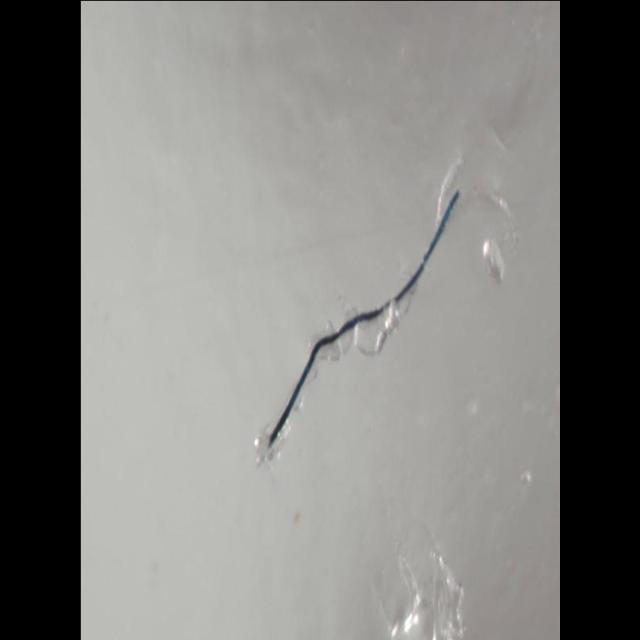Fibre: (258, 173, 466, 472)
